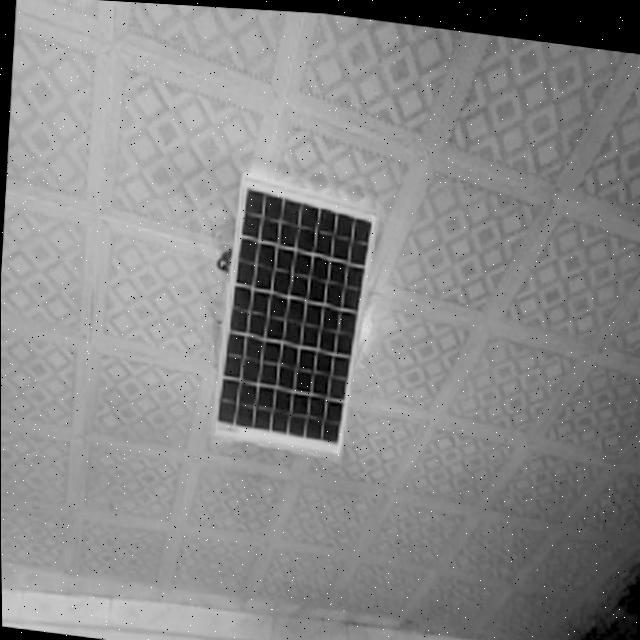Normal Solar Panel: (210, 178, 372, 450)
